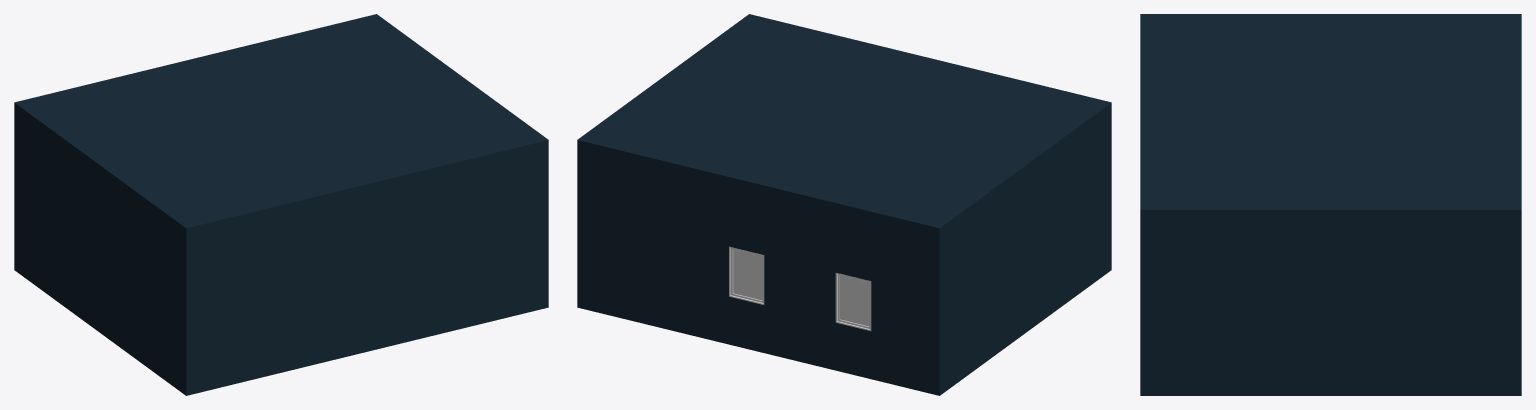
The model's file is Room_R1.fbx.
3 views of the same model, side by side, from view 1: azimuth 30°, elevation 25°; view 2: azimuth 150°, elevation 25°; view 3: azimuth 270°, elevation 25° (orthographic). The views are drawn at different scales.
Parts seen in each view (by area): view 1: Wall; view 2: Wall, Window_Glass.001, Window_Glass; view 3: Wall.
Boxes of the visible parts, x1=… form: Wall: x1=14, y1=14, x2=548, y2=395; Wall: x1=577, y1=14, x2=1111, y2=395; Window_Glass.001: x1=840, y1=276, x2=869, y2=326; Window_Glass: x1=733, y1=250, x2=762, y2=300; Wall: x1=1140, y1=14, x2=1521, y2=395.
Size of the model in its own units: 707 by 313 by 582.
